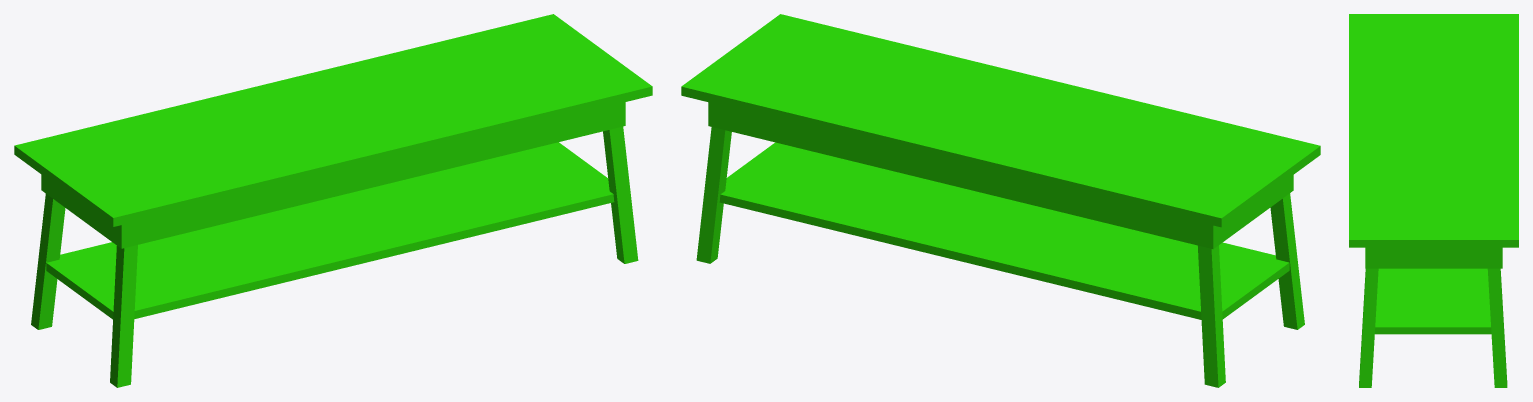
File: Small_Table_05_Lod0.fbx
The picture shows the model from 3 angles, left to right: view 1: azimuth 30°, elevation 25°; view 2: azimuth 150°, elevation 25°; view 3: azimuth 270°, elevation 25°; orthographic projection. The views are drawn at different scales.
Visible parts, largest first — view 1: Small_Table_05_Lod0; view 2: Small_Table_05_Lod0; view 3: Small_Table_05_Lod0.
Part boxes in pixels (bbox=[...]): Small_Table_05_Lod0: bbox=[14, 14, 652, 387]; Small_Table_05_Lod0: bbox=[681, 14, 1320, 387]; Small_Table_05_Lod0: bbox=[1349, 14, 1518, 387].
Bounding box in the file's own units: 84.15 × 26.34 × 26.75.
